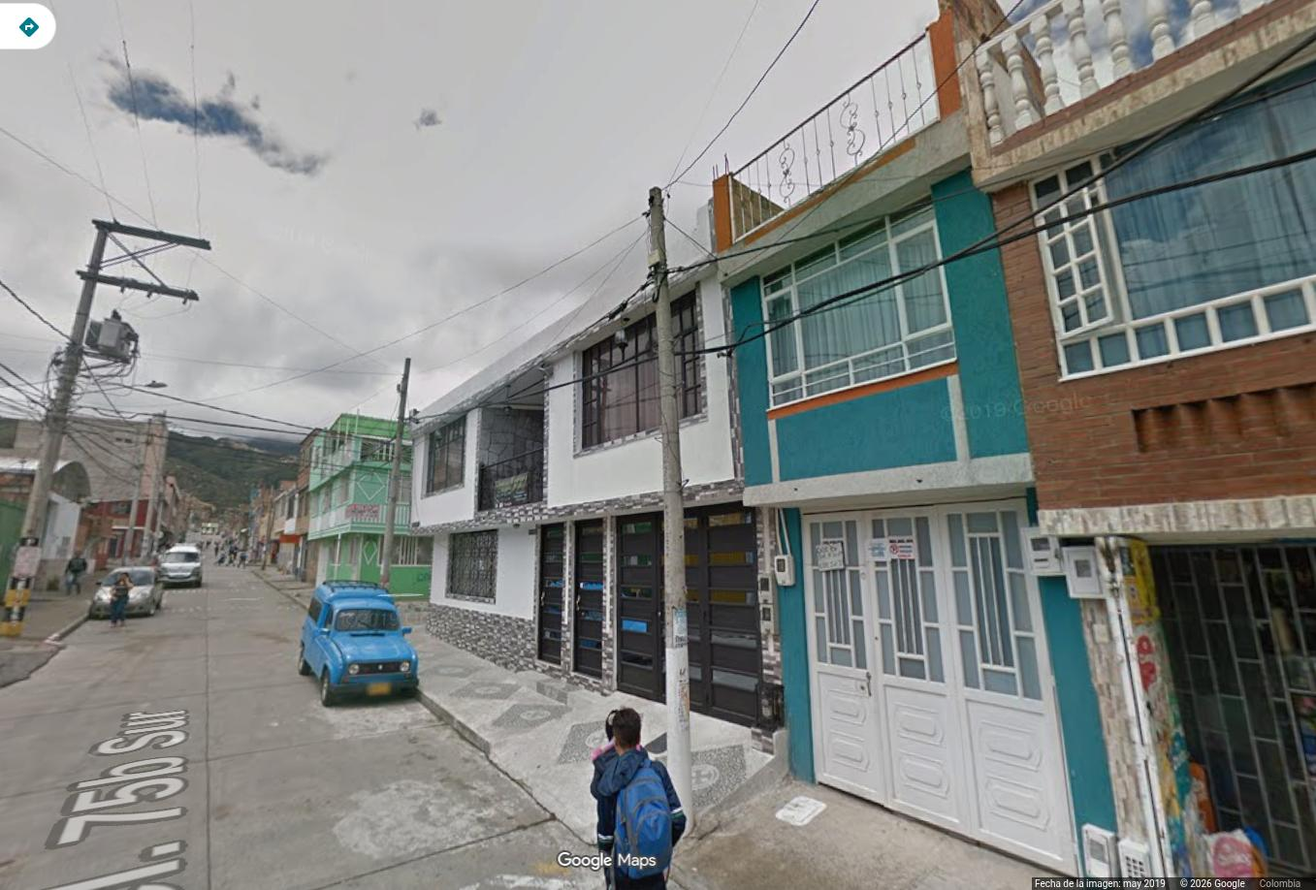casa: (715, 4, 1114, 874), (411, 273, 667, 707), (671, 202, 792, 750), (303, 414, 430, 596)
poste: (0, 220, 209, 635), (92, 310, 136, 361)
